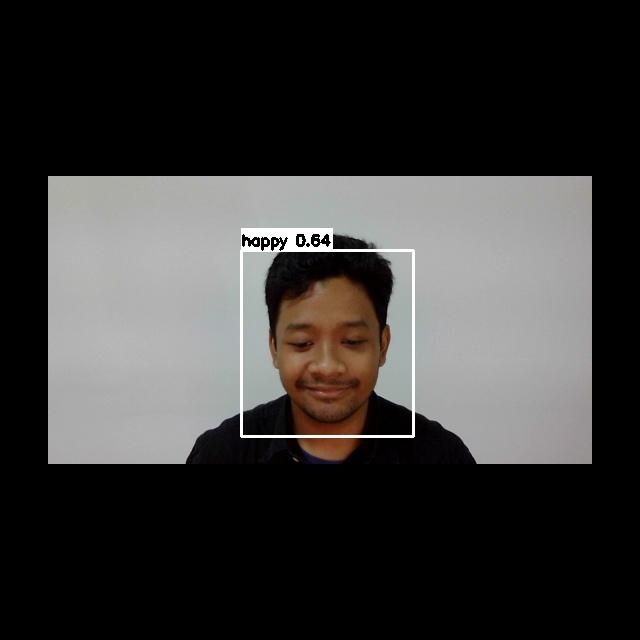Happy: (274, 313, 385, 403)
